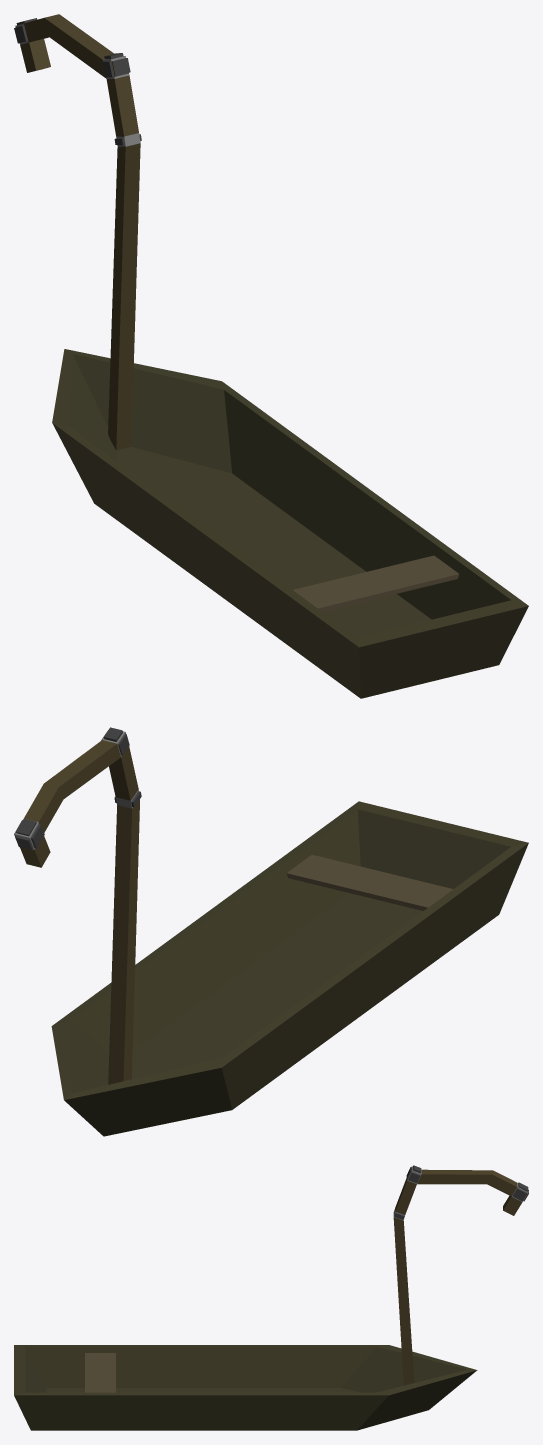
File: boat.fbx
The picture shows the model from 3 angles, top to bottom: view 1: azimuth 30°, elevation 25°; view 2: azimuth 150°, elevation 25°; view 3: azimuth 270°, elevation 25°; orthographic projection. The views are drawn at different scales.
Parts seen in each view (by area): view 1: Cube, Cube.002, Cube.001; view 2: Cube, Cube.002, Cube.001; view 3: Cube, Cube.002, Cube.001.
Boxes of the visible parts, <box> form: Cube: <box>52,349,528,698</box>; Cube.002: <box>14,14,141,450</box>; Cube.001: <box>293,555,459,611</box>; Cube: <box>51,801,528,1136</box>; Cube.002: <box>14,727,141,1084</box>; Cube.001: <box>286,854,453,910</box>; Cube: <box>14,1345,477,1430</box>; Cube.002: <box>393,1165,528,1385</box>; Cube.001: <box>85,1353,115,1392</box>.
Size of the model in its own units: 1.9 by 4.26 by 8.18.
